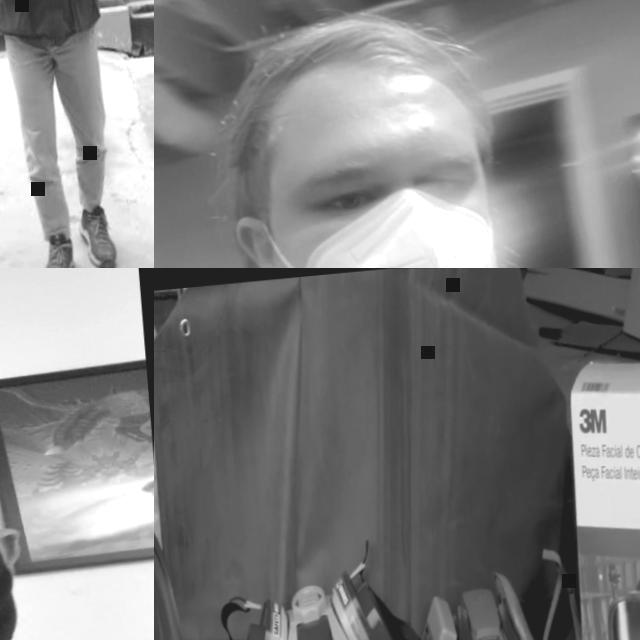mask: (229, 562, 409, 640), (399, 562, 558, 640)
no_helmet: (222, 2, 484, 142)
no_mask: (255, 188, 508, 268)
person: (154, 0, 640, 268), (0, 361, 154, 640), (0, 0, 154, 268)
